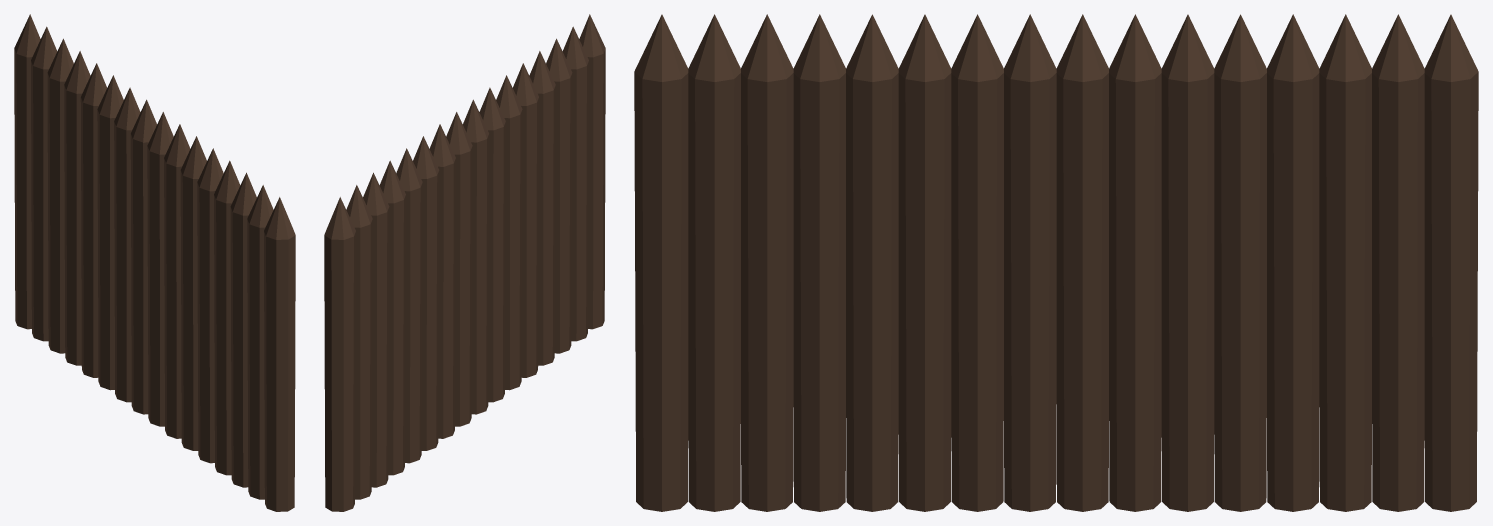
Rendered from Spike Wall base.fbx.
3 renders of one model, left to right at view 1: azimuth 30°, elevation 25°; view 2: azimuth 150°, elevation 25°; view 3: azimuth 270°, elevation 25°, orthographic. The views are drawn at different scales.
Parts seen in each view (by area): view 1: Cylinder.006; view 2: Cylinder.006; view 3: Cylinder.006.
Boxes of the visible parts, <box> form: Cylinder.006: <box>14,14,295,511</box>; Cylinder.006: <box>324,14,605,511</box>; Cylinder.006: <box>634,14,1478,511</box>.
Bounding box in the file's own units: 0.2331 × 2.49 × 3.91.
